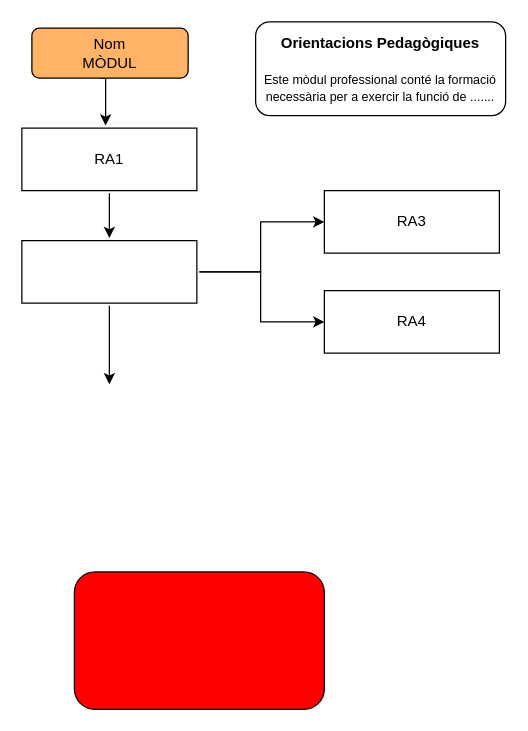
Some shapes in this 528 by 731 pixel diagram are drawn without their labels. Each missing label, with the centre of its shape:
"MOLT IMPORTANT: EL DIAGRAMA HA DE CABER EN AQUESTA PÀGINA O NO ES PODRÀ PUJAR" belongs at (198,640).
"RA2" belongs at (109,271).
